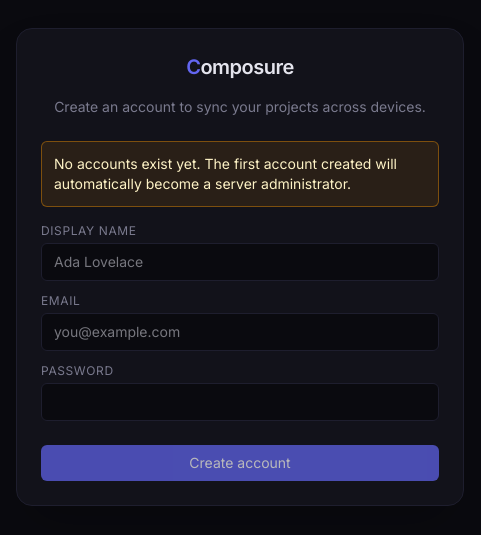
AuthEntryView › validates display name minimum length
Type "A" into the field with placeholder "Ada Lovelace" at x=240, y=262, box [41,243,439,281]
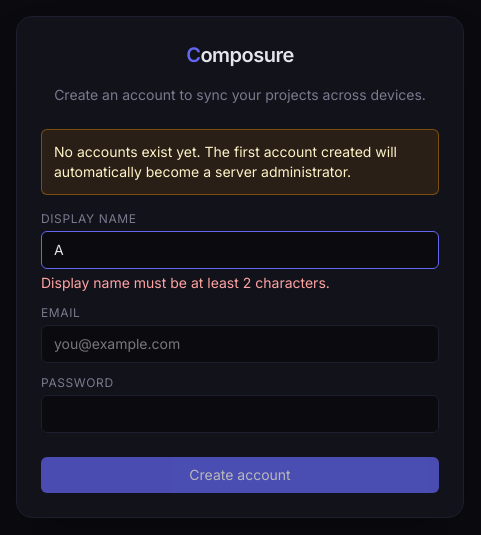
Expected: the text "Display name must be at least 2 characters." is shown, [41,274,330,291]
